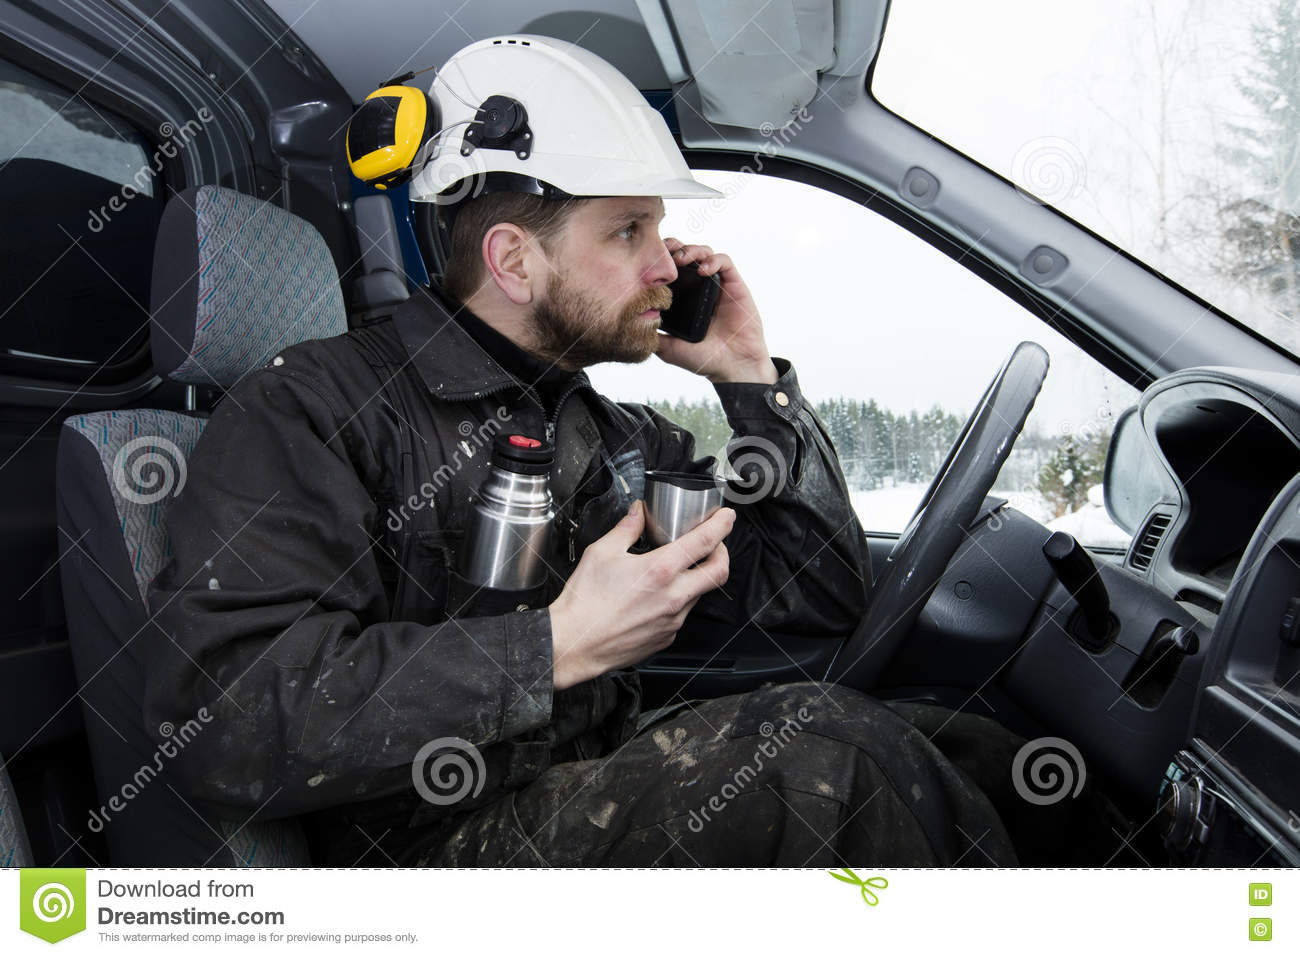phone: (664, 259, 724, 345)
talk: (593, 214, 769, 392)
